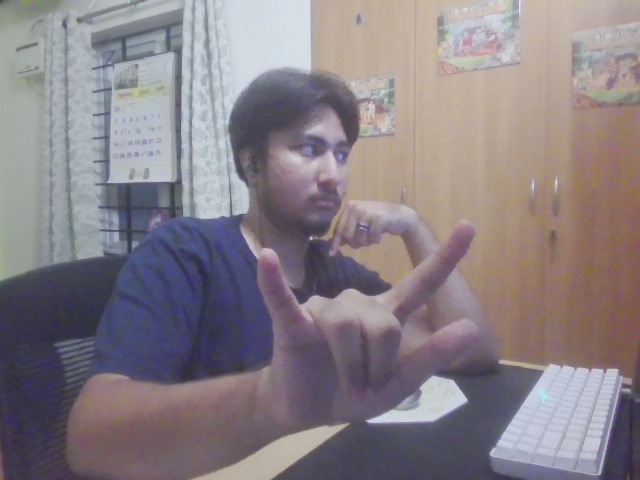iloveyou: (250, 216, 483, 428)
